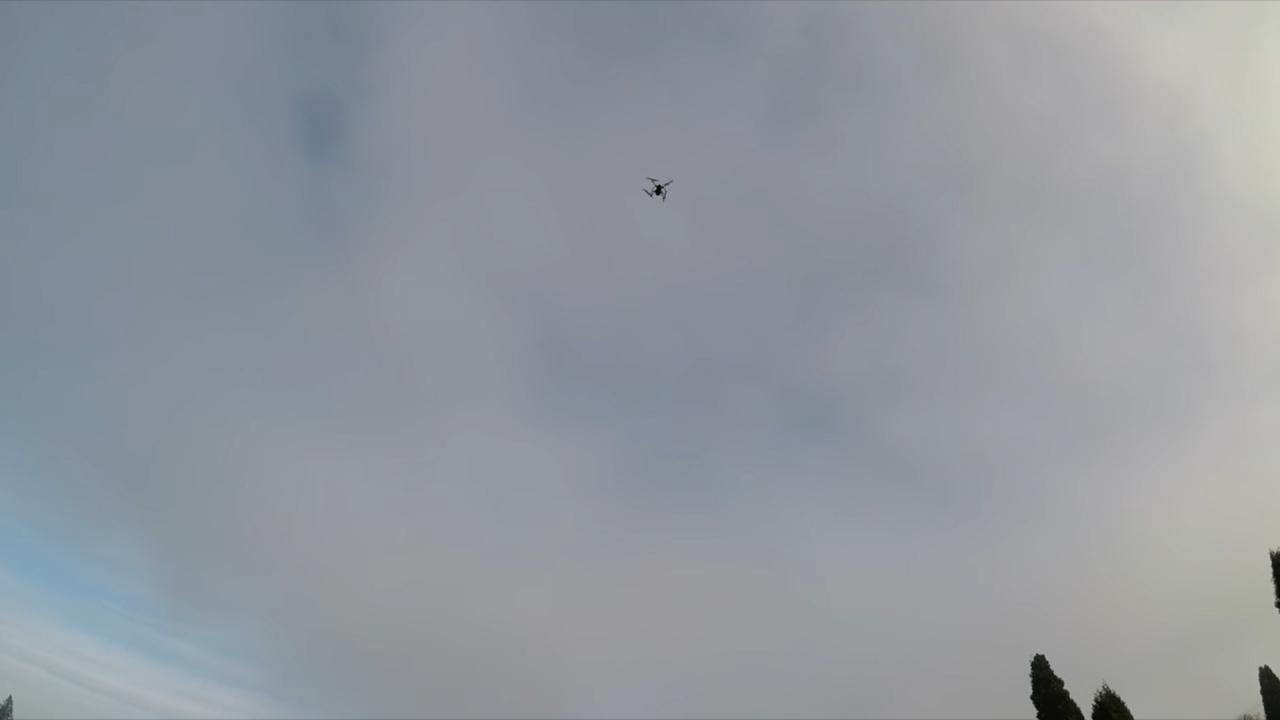Drone: (636, 169, 682, 209)
